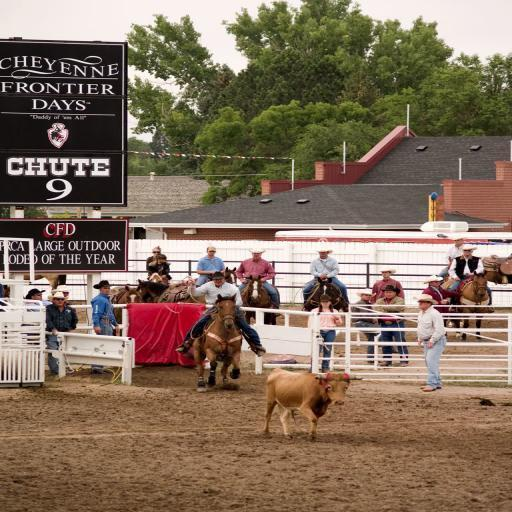horse: (192, 292, 246, 390), (438, 270, 490, 340), (106, 283, 145, 338), (238, 274, 273, 328), (134, 278, 206, 302), (171, 266, 238, 286), (306, 276, 340, 312), (474, 254, 512, 285)
